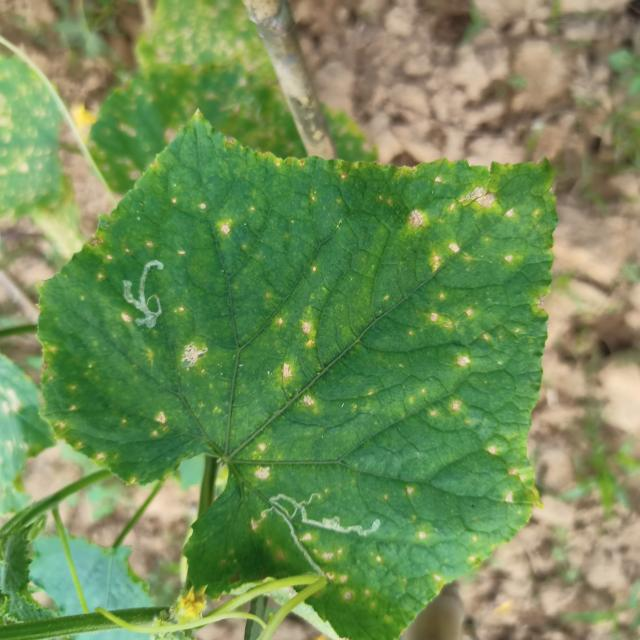disease_cucumber: (375, 167, 552, 484), (45, 191, 235, 439), (244, 484, 486, 640), (176, 297, 344, 487)
